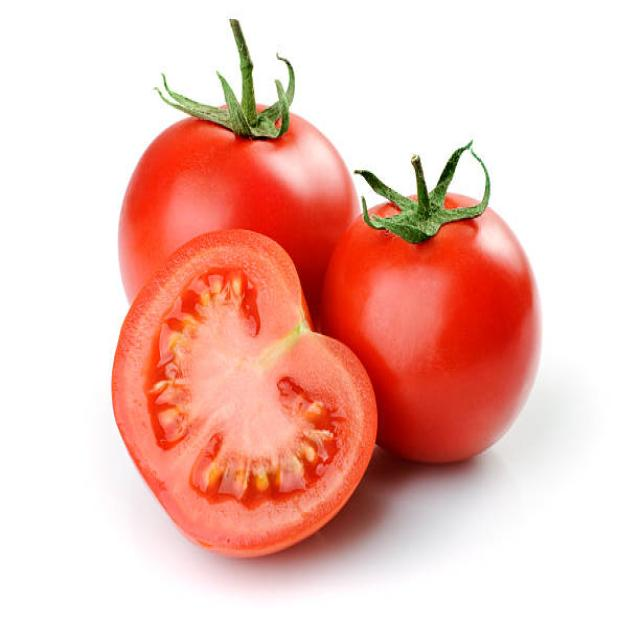Tomato: (94, 242, 398, 560)
